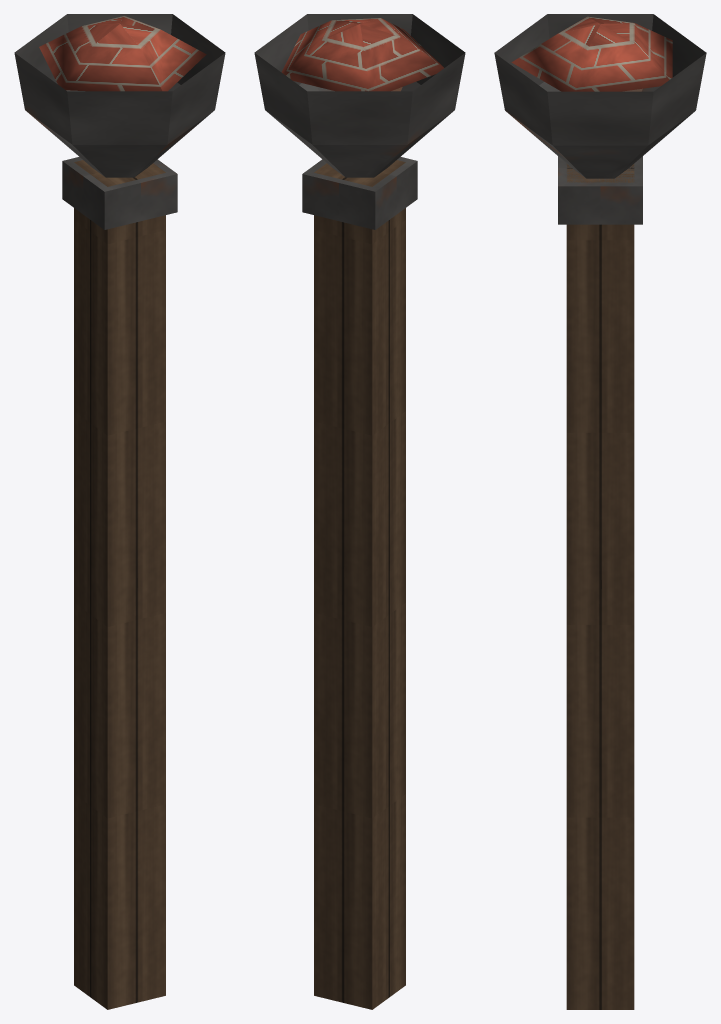
The model's file is Arena_Post_Brazier_1_LOD1.gltf.
The picture shows the model from 3 angles, left to right: view 1: azimuth 30°, elevation 25°; view 2: azimuth 150°, elevation 25°; view 3: azimuth 270°, elevation 25°; orthographic projection.
Visible parts, largest first — view 1: Arena_Post_Brazier_1_LOD1; view 2: Arena_Post_Brazier_1_LOD1; view 3: Arena_Post_Brazier_1_LOD1.
Boxes of the visible parts, x1,y1,x2,y2 form: Arena_Post_Brazier_1_LOD1: (14, 14, 225, 1009); Arena_Post_Brazier_1_LOD1: (254, 14, 465, 1009); Arena_Post_Brazier_1_LOD1: (494, 14, 706, 1009).
Bounding box in the file's own units: 0.866 × 5.05 × 1.
Materials: 3 (3 with a texture image).
